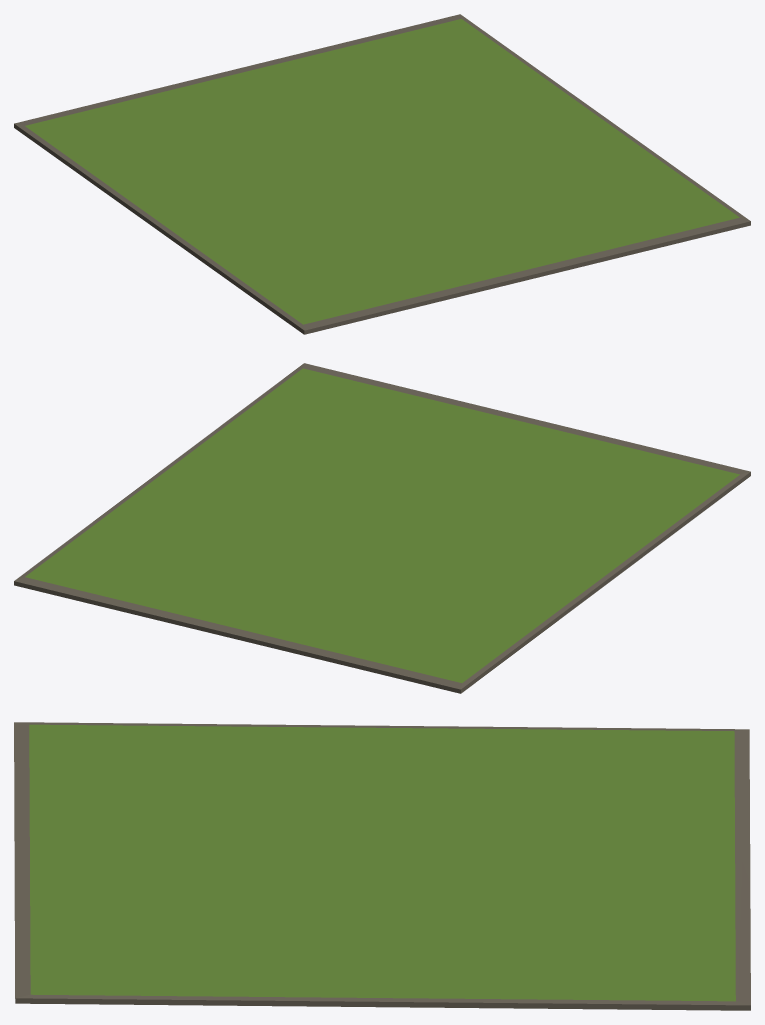
The model's file is terrain.glb.
3 views of the same model, one above another, from view 1: azimuth 30°, elevation 25°; view 2: azimuth 150°, elevation 25°; view 3: azimuth 270°, elevation 25° (orthographic). The views are drawn at different scales.
Visible parts, largest first — view 1: terrain.001; view 2: terrain.001; view 3: terrain.001.
Boxes of the visible parts, x1,y1,x2,y2 form: terrain.001: (14,14,750,334); terrain.001: (14,363,750,693); terrain.001: (14,722,750,1010).
Size of the model in its own units: 187 by 4.11 by 211.
